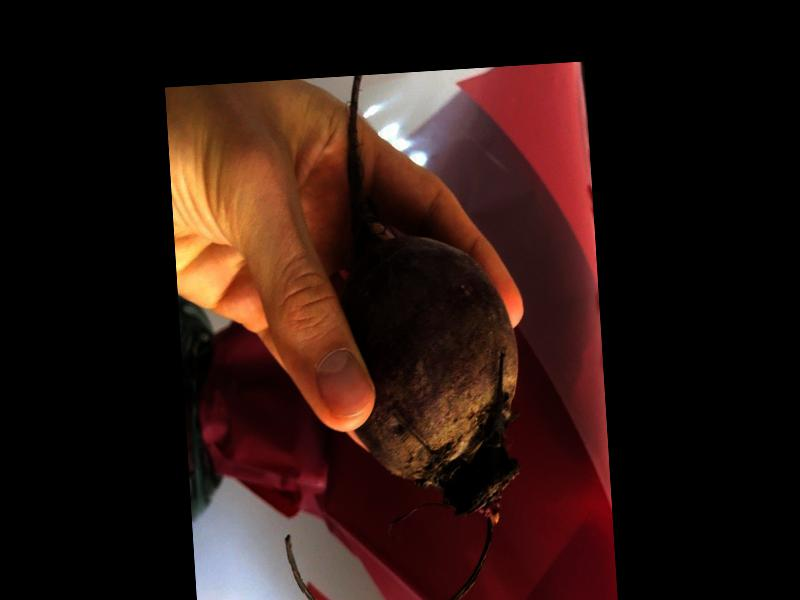Beet: (257, 68, 534, 600)
